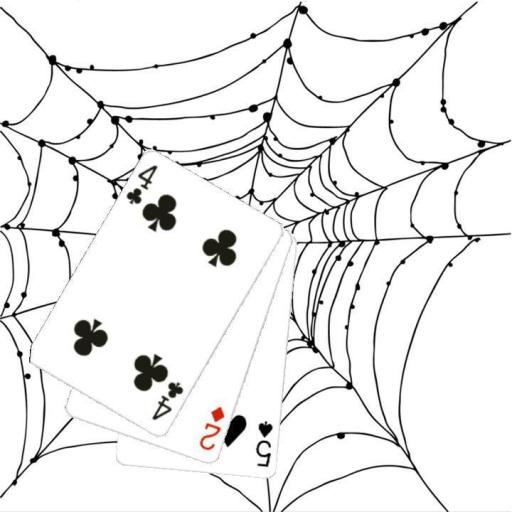card-corner: (149, 378, 185, 422), (123, 162, 159, 206), (196, 403, 226, 452), (252, 418, 276, 469)
